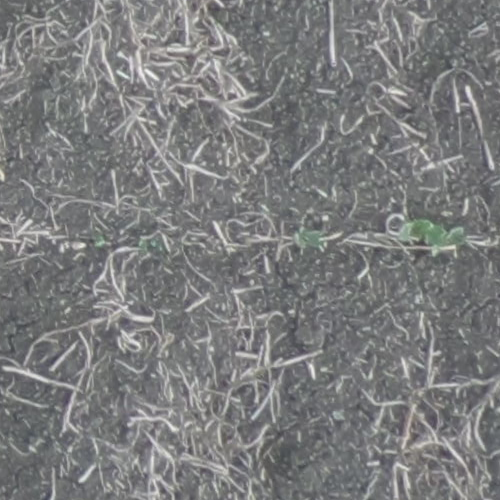plant: (400, 217, 433, 247)
